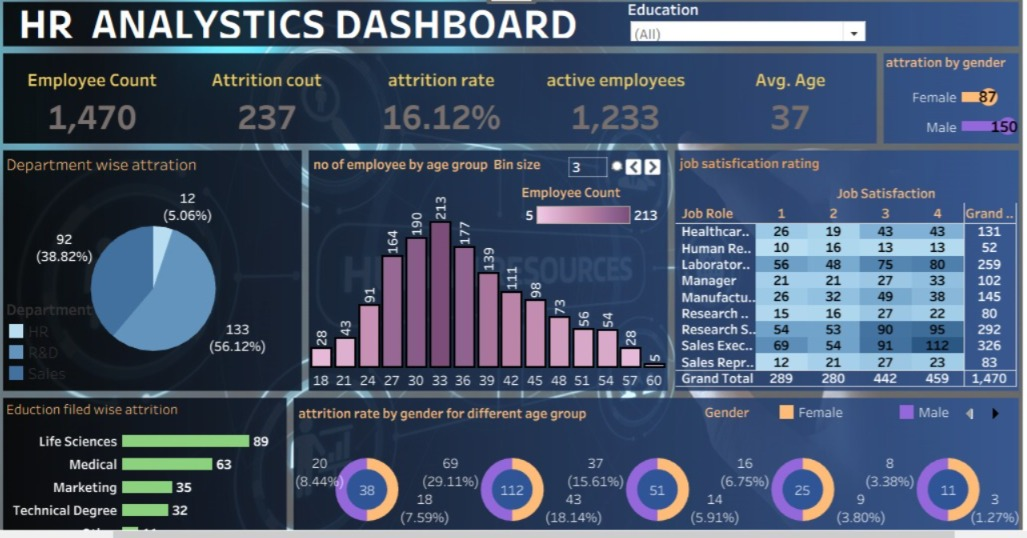

Layout of this report page (visuals, bound fields, positions):
{"tool":"tableau","page":{"name":"HR ANALYSTICS DASHBOARD ","canvas":[1360,600],"ordinal":0},"visuals":[{"type":"image","param":"C:/Users/DELL/Desktop/HR background12.png","box":[8,8,1344,584]},{"type":"filter","title":"Department wise attration ","param":"[federated.009fljk05f2cd41404hl21ssypot].[none:Education:nk]","box":[797,14,241,42]},{"type":"text","box":[185,23,987,30]},{"type":"worksheet","title":"attration by gender ","mark":"Automatic","rows":["Gender"],"cols":["Calculation_0693302422925312","Calculation_0693302422925312"],"box":[1051,64,137,92]},{"type":"worksheet","title":"KPI ","mark":"Automatic","box":[175,66,872,90]},{"type":"worksheet","title":"Department wise attration ","mark":"Pie","box":[172,165,302,241]},{"type":"worksheet","title":"job satisfication rating ","mark":"Square","rows":["Job Role"],"cols":["Job Satisfaction"],"box":[845,165,341,237]},{"type":"worksheet","title":"no of employee by age group ","mark":"Automatic","rows":["Employee Count"],"cols":["Age (bin)"],"box":[479,166,357,239]},{"type":"parameter","param":"[Parameters].[Parameter 1]","box":[663,169,170,27]},{"type":"legend","title":"no of employee by age group ","param":"[federated.009fljk05f2cd41404hl21ssypot].[sum:Employee Count:qk]","box":[691,198,141,55]},{"type":"legend","title":"Department wise attration ","param":"[federated.009fljk05f2cd41404hl21ssypot].[none:Department:nk]","box":[176,314,88,89]},{"type":"worksheet","title":"Eduction filed wise attrition ","mark":"Automatic","rows":["Education Field"],"cols":["Calculation_0693302422925312"],"box":[172,411,278,171]},{"type":"worksheet","title":"attrition rate by gender for different age group","mark":"Pie","rows":["Calculation_0937669332815875","Calculation_0937669332815875"],"cols":["CF_age band"],"box":[464,415,726,168]},{"type":"legend","title":"attrition rate by gender for different age group","param":"[federated.009fljk05f2cd41404hl21ssypot].[none:Gender:nk]","box":[874,417,306,23]}]}

Visuals, with their boxes on the page's 1360x600 design canvas (x1, y1, x2, y2). These are canvas units, not pixel positions in the 1027x538 screenshot, which may show the page scaled, cropped or inside an application window:
image: bbox=(8, 8, 1352, 592)
"Department wise attration " filter: bbox=(797, 14, 1038, 56)
text: bbox=(185, 23, 1172, 53)
"attration by gender " worksheet: bbox=(1051, 64, 1188, 156)
"KPI " worksheet: bbox=(175, 66, 1047, 156)
"Department wise attration " worksheet (Pie marks): bbox=(172, 165, 474, 406)
"job satisfication rating " worksheet (Square marks): bbox=(845, 165, 1186, 402)
"no of employee by age group " worksheet: bbox=(479, 166, 836, 405)
parameter: bbox=(663, 169, 833, 196)
"no of employee by age group " legend: bbox=(691, 198, 832, 253)
"Department wise attration " legend: bbox=(176, 314, 264, 403)
"Eduction filed wise attrition " worksheet: bbox=(172, 411, 450, 582)
"attrition rate by gender for different age group" worksheet (Pie marks): bbox=(464, 415, 1190, 583)
"attrition rate by gender for different age group" legend: bbox=(874, 417, 1180, 440)
